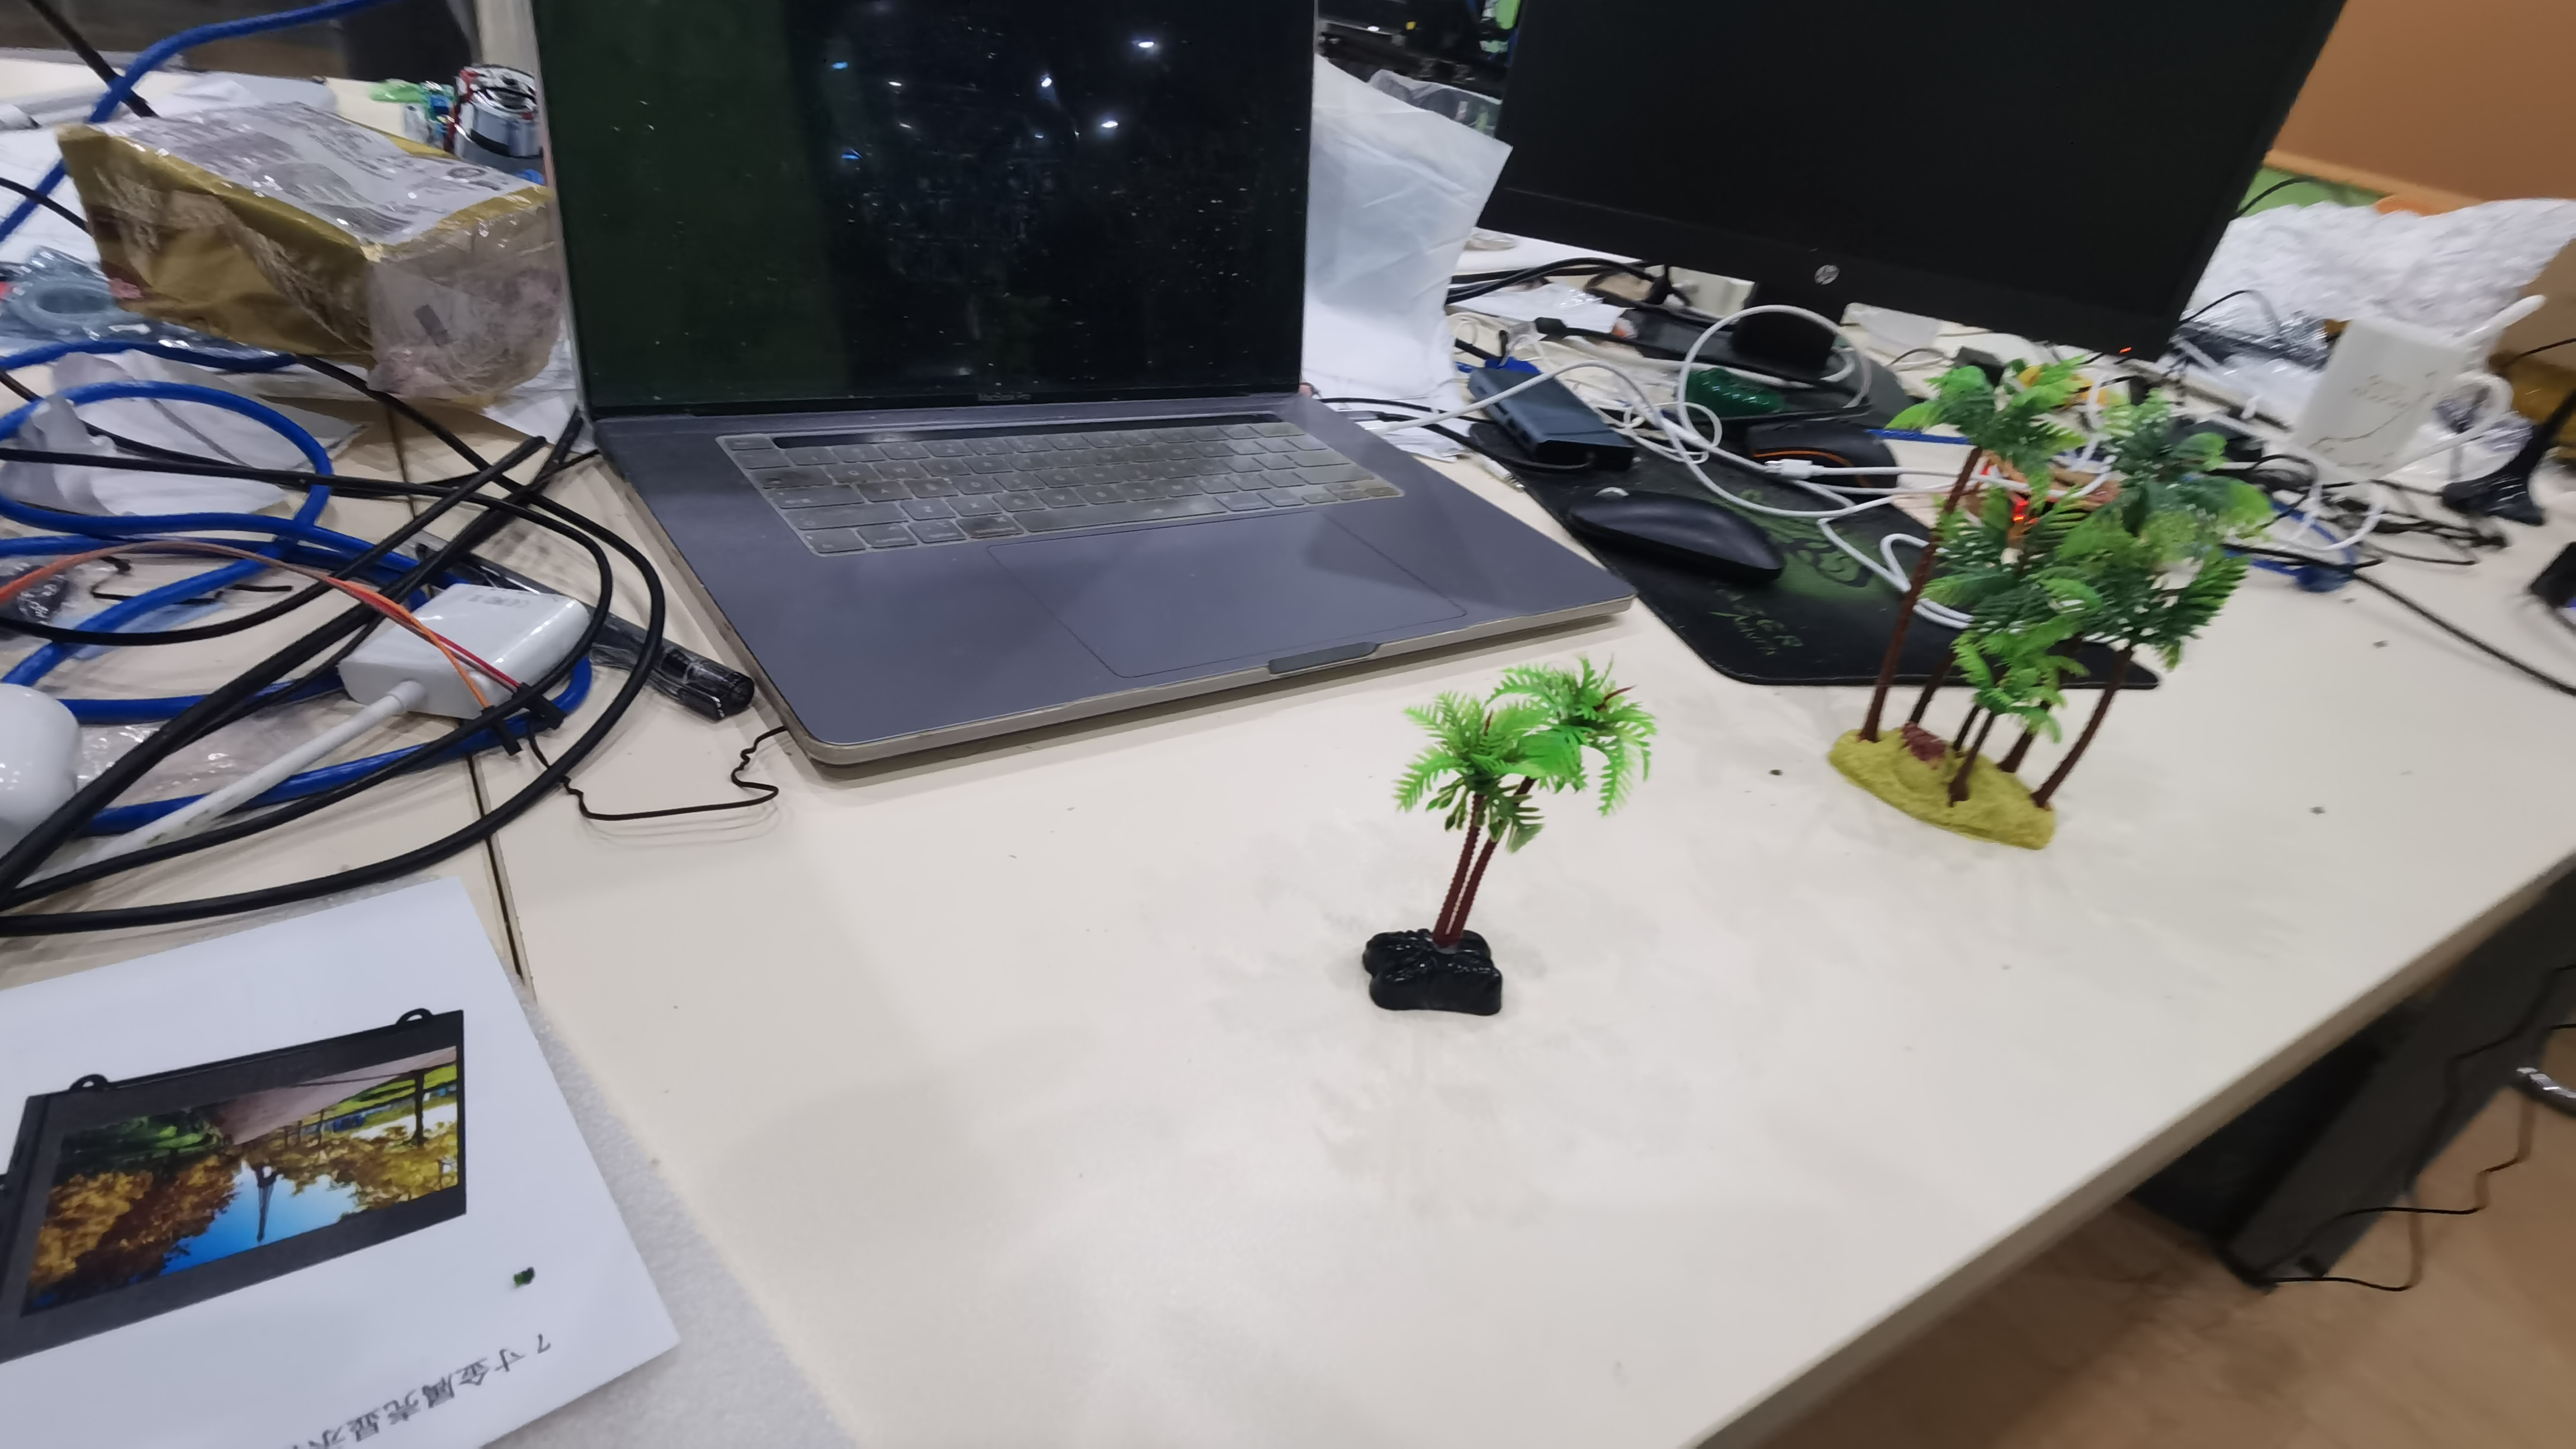corn: (1831, 361, 2268, 849), (1364, 656, 1647, 1019)
